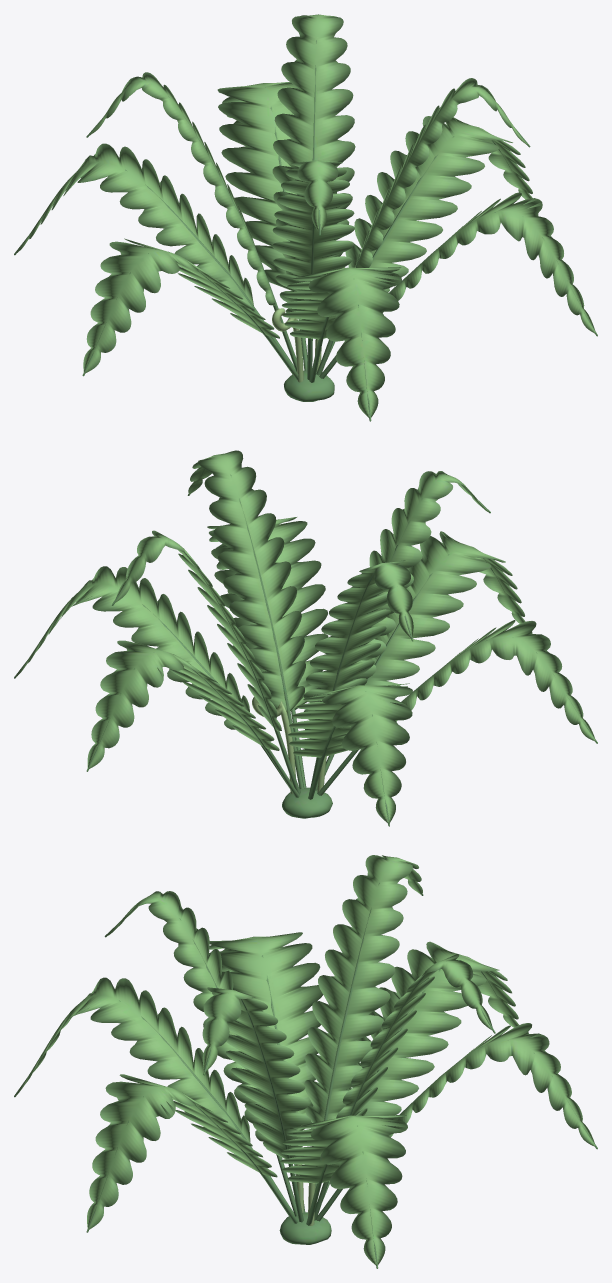
Rendered from fern.glb.
The picture shows the model from 3 angles, top to bottom: view 1: azimuth 30°, elevation 25°; view 2: azimuth 150°, elevation 25°; view 3: azimuth 270°, elevation 25°; orthographic projection. The views are drawn at different scales.
Visible parts, largest first — view 1: fern_body; view 2: fern_body; view 3: fern_body.
Part boxes in pixels (x1=…): fern_body: x1=14, y1=14, x2=597, y2=421; fern_body: x1=14, y1=450, x2=597, y2=826; fern_body: x1=14, y1=855, x2=597, y2=1268.
Bounding box in the file's own units: 1.41 × 0.7988 × 1.33.
Materials: 1 (1 with a texture image).
